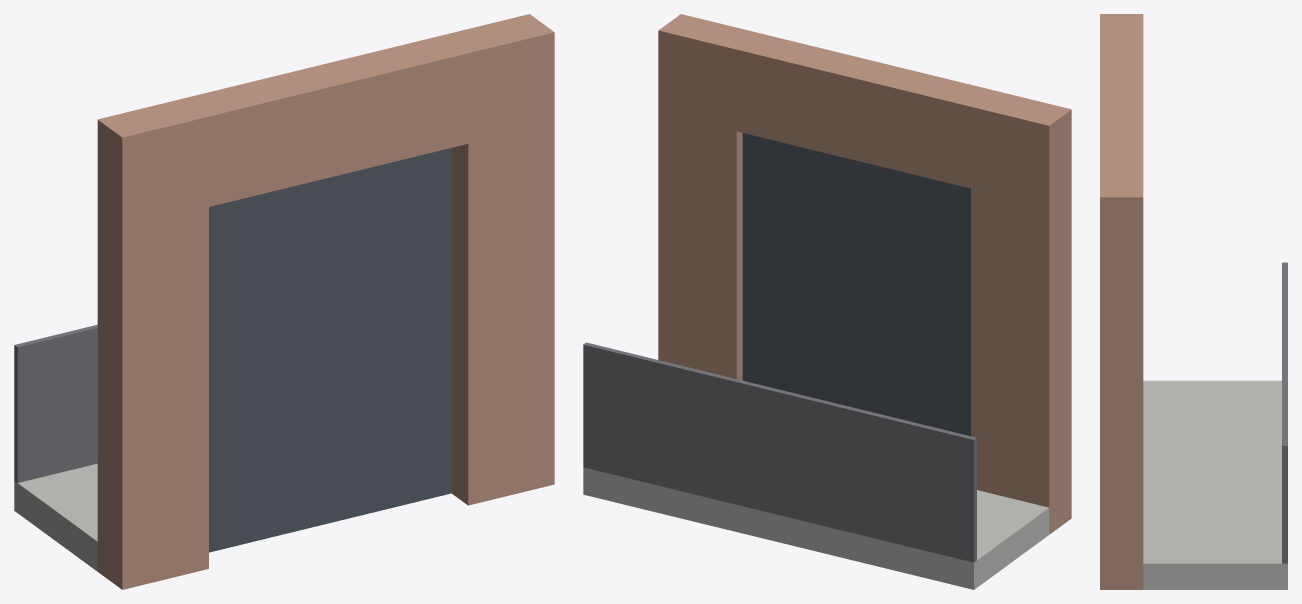
Rendered from fac_brick_balcony.glb.
3 renders of one model, left to right at view 1: azimuth 30°, elevation 25°; view 2: azimuth 150°, elevation 25°; view 3: azimuth 270°, elevation 25°, orthographic. The views are drawn at different scales.
Visible parts, largest first — view 1: fac_brick_balcony; view 2: fac_brick_balcony; view 3: fac_brick_balcony.
Boxes of the visible parts, left/top/right/bottom form: fac_brick_balcony: left=14, top=14, right=554, bottom=589; fac_brick_balcony: left=583, top=14, right=1071, bottom=589; fac_brick_balcony: left=1100, top=14, right=1287, bottom=589.
Size of what is drawn, in the model's own units: 3 by 3 by 1.3.
